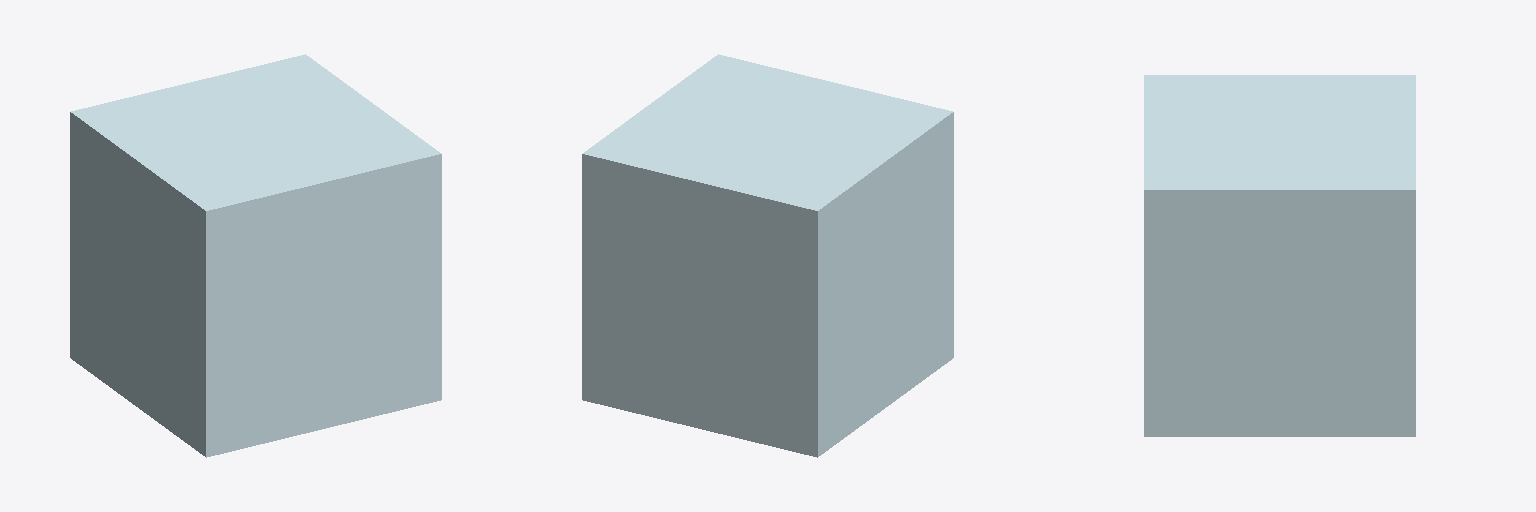
The model's file is goutte.obj.
3 views of the same model, side by side, from view 1: azimuth 30°, elevation 25°; view 2: azimuth 150°, elevation 25°; view 3: azimuth 270°, elevation 25° (orthographic).
Parts seen in each view (by area): view 1: Cube; view 2: Cube; view 3: Cube.
Boxes of the visible parts, x1,y1,x2,y2 form: Cube: [70, 54, 441, 457]; Cube: [582, 54, 953, 457]; Cube: [1144, 75, 1415, 436].
Bounding box in the file's own units: 4000 × 4000 × 4000.